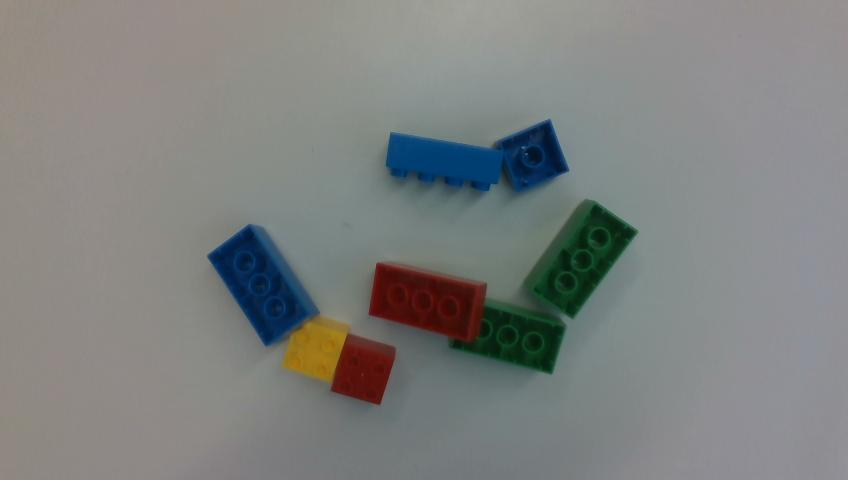2x2_blue: (496, 120, 568, 191)
2x2_red: (332, 333, 395, 404)
2x2_yellow: (283, 316, 349, 382)
4x2_blue: (209, 225, 319, 345), (386, 132, 504, 190)
4x2_green: (525, 200, 637, 317), (449, 300, 565, 373)
4x2_red: (369, 262, 486, 340)
